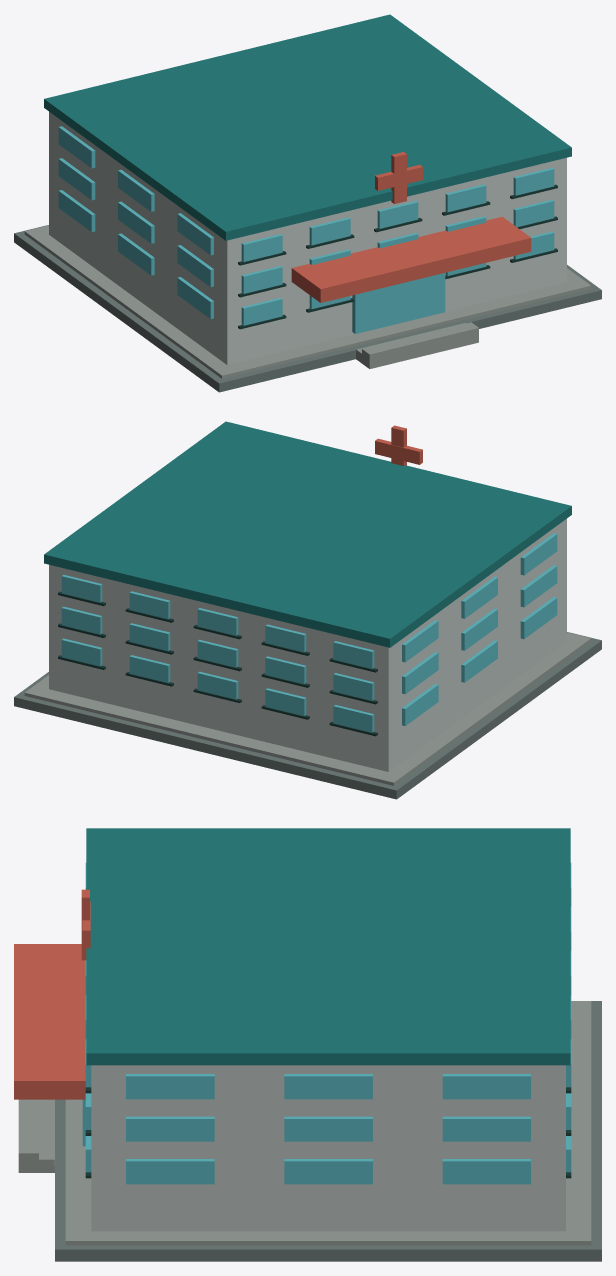
The model's file is hospital_lv1.glb.
3 views of the same model, one above another, from view 1: azimuth 30°, elevation 25°; view 2: azimuth 150°, elevation 25°; view 3: azimuth 270°, elevation 25° (orthographic). The views are drawn at different scales.
Parts seen in each view (by area): view 1: rough, glossy; view 2: rough, glossy; view 3: rough, glossy.
Part boxes in pixels (x1=…): rough: x1=14, y1=14, x2=601, y2=392; glossy: x1=58, y1=126, x2=554, y2=333; rough: x1=14, y1=421, x2=601, y2=799; glossy: x1=61, y1=533, x2=557, y2=732; rough: x1=14, y1=828, x2=601, y2=1261; glossy: x1=82, y1=863, x2=571, y2=1184.
Bounding box in the file's own units: 9.8 × 4.47 × 9.78.
